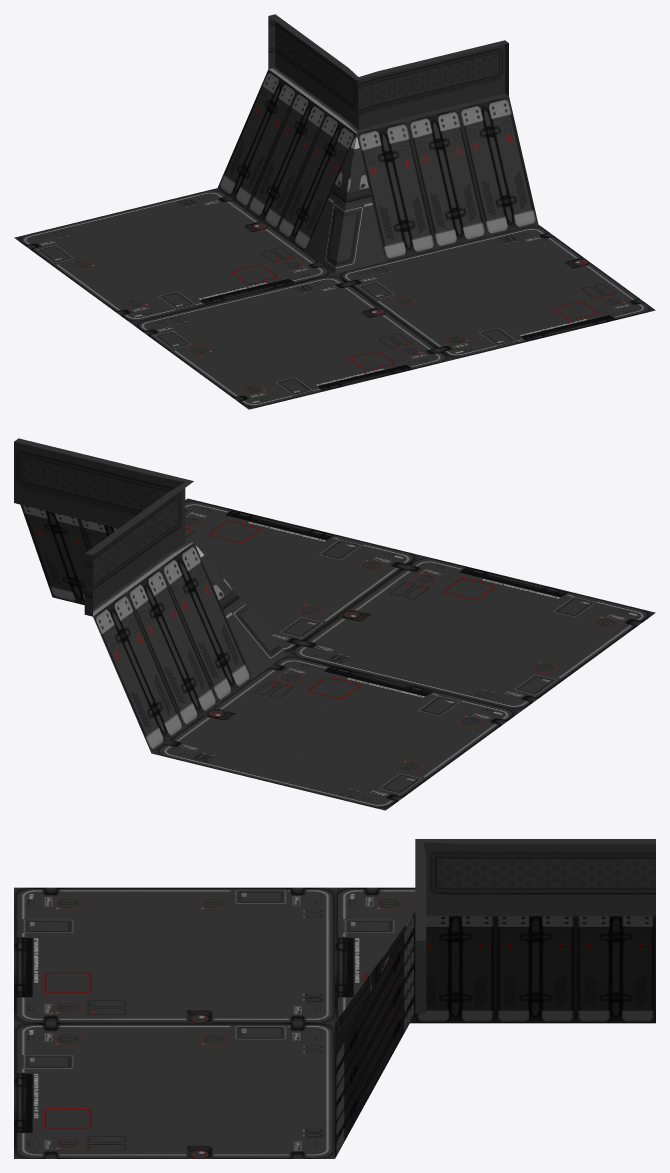
Rendered from Panel_A_2x2_2_Corner_In_Tip_L3.FBX.
The picture shows the model from 3 angles, top to bottom: view 1: azimuth 30°, elevation 25°; view 2: azimuth 150°, elevation 25°; view 3: azimuth 270°, elevation 25°; orthographic projection. The views are drawn at different scales.
Visible parts, largest first — view 1: Panel_A_2x2_2_Corner_In_Tip_L3; view 2: Panel_A_2x2_2_Corner_In_Tip_L3; view 3: Panel_A_2x2_2_Corner_In_Tip_L3.
Boxes of the visible parts, bbox=[...] form: Panel_A_2x2_2_Corner_In_Tip_L3: bbox=[14, 14, 655, 409]; Panel_A_2x2_2_Corner_In_Tip_L3: bbox=[14, 438, 655, 810]; Panel_A_2x2_2_Corner_In_Tip_L3: bbox=[14, 839, 655, 1158].
Bounding box in the file's own units: 400 × 150 × 400.
